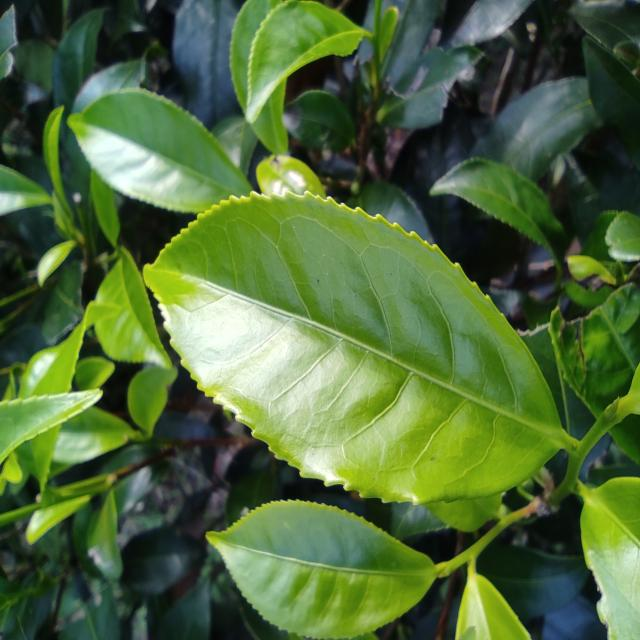Category B(2-4 days): (126, 160, 576, 540)
